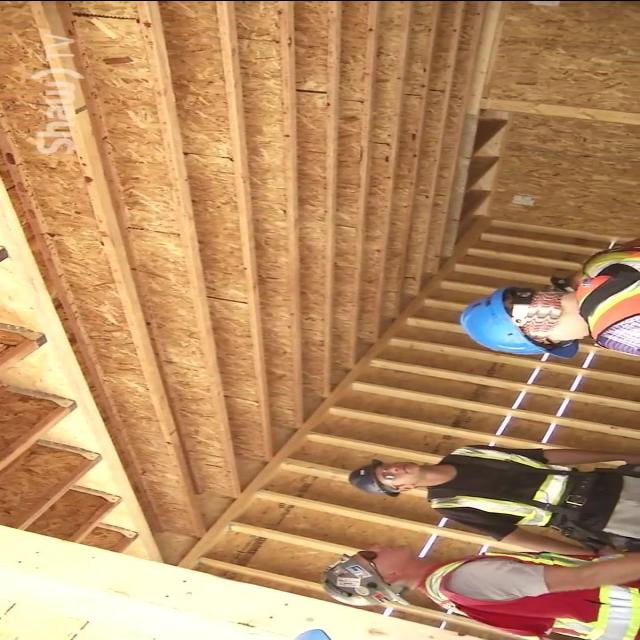helmet: (444, 280, 574, 368), (308, 546, 388, 615), (347, 454, 392, 500)
